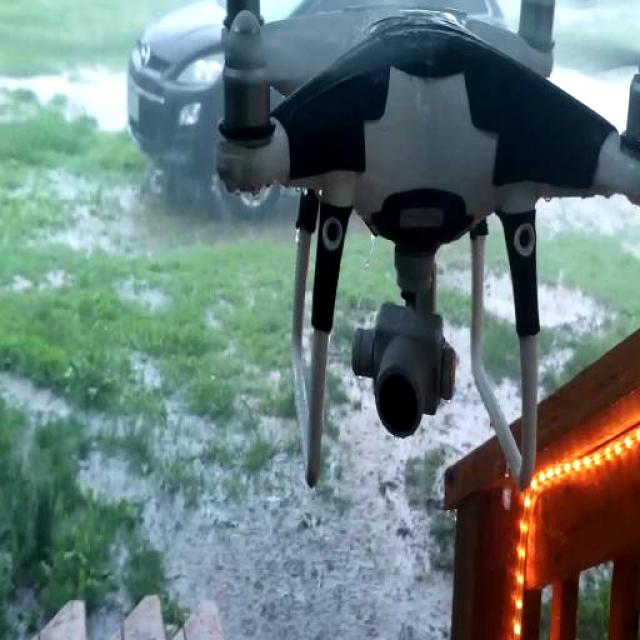bird: (204, 0, 640, 512)
